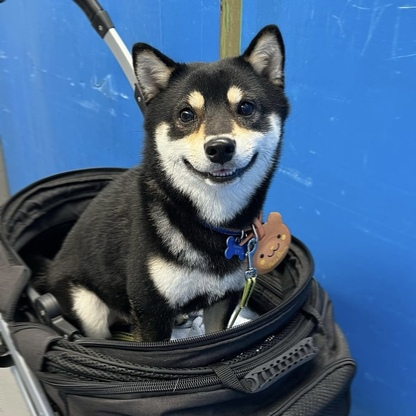shiba: (24, 18, 302, 349)
